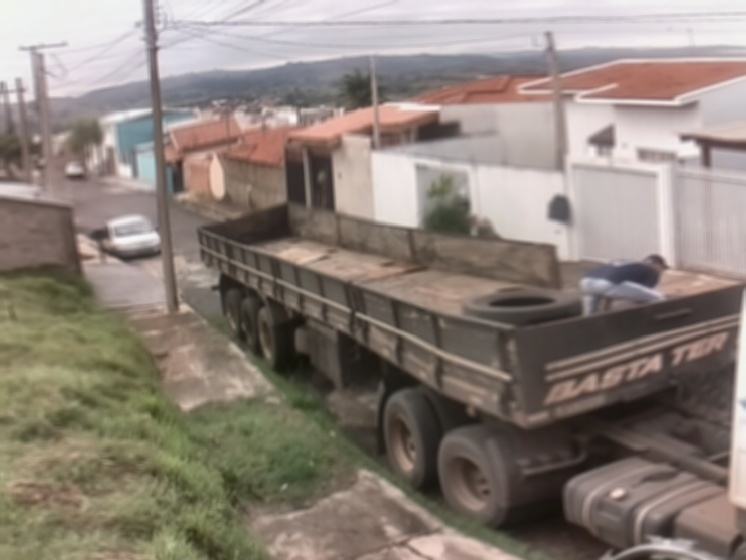person: (577, 254, 671, 317), (461, 213, 501, 243)
